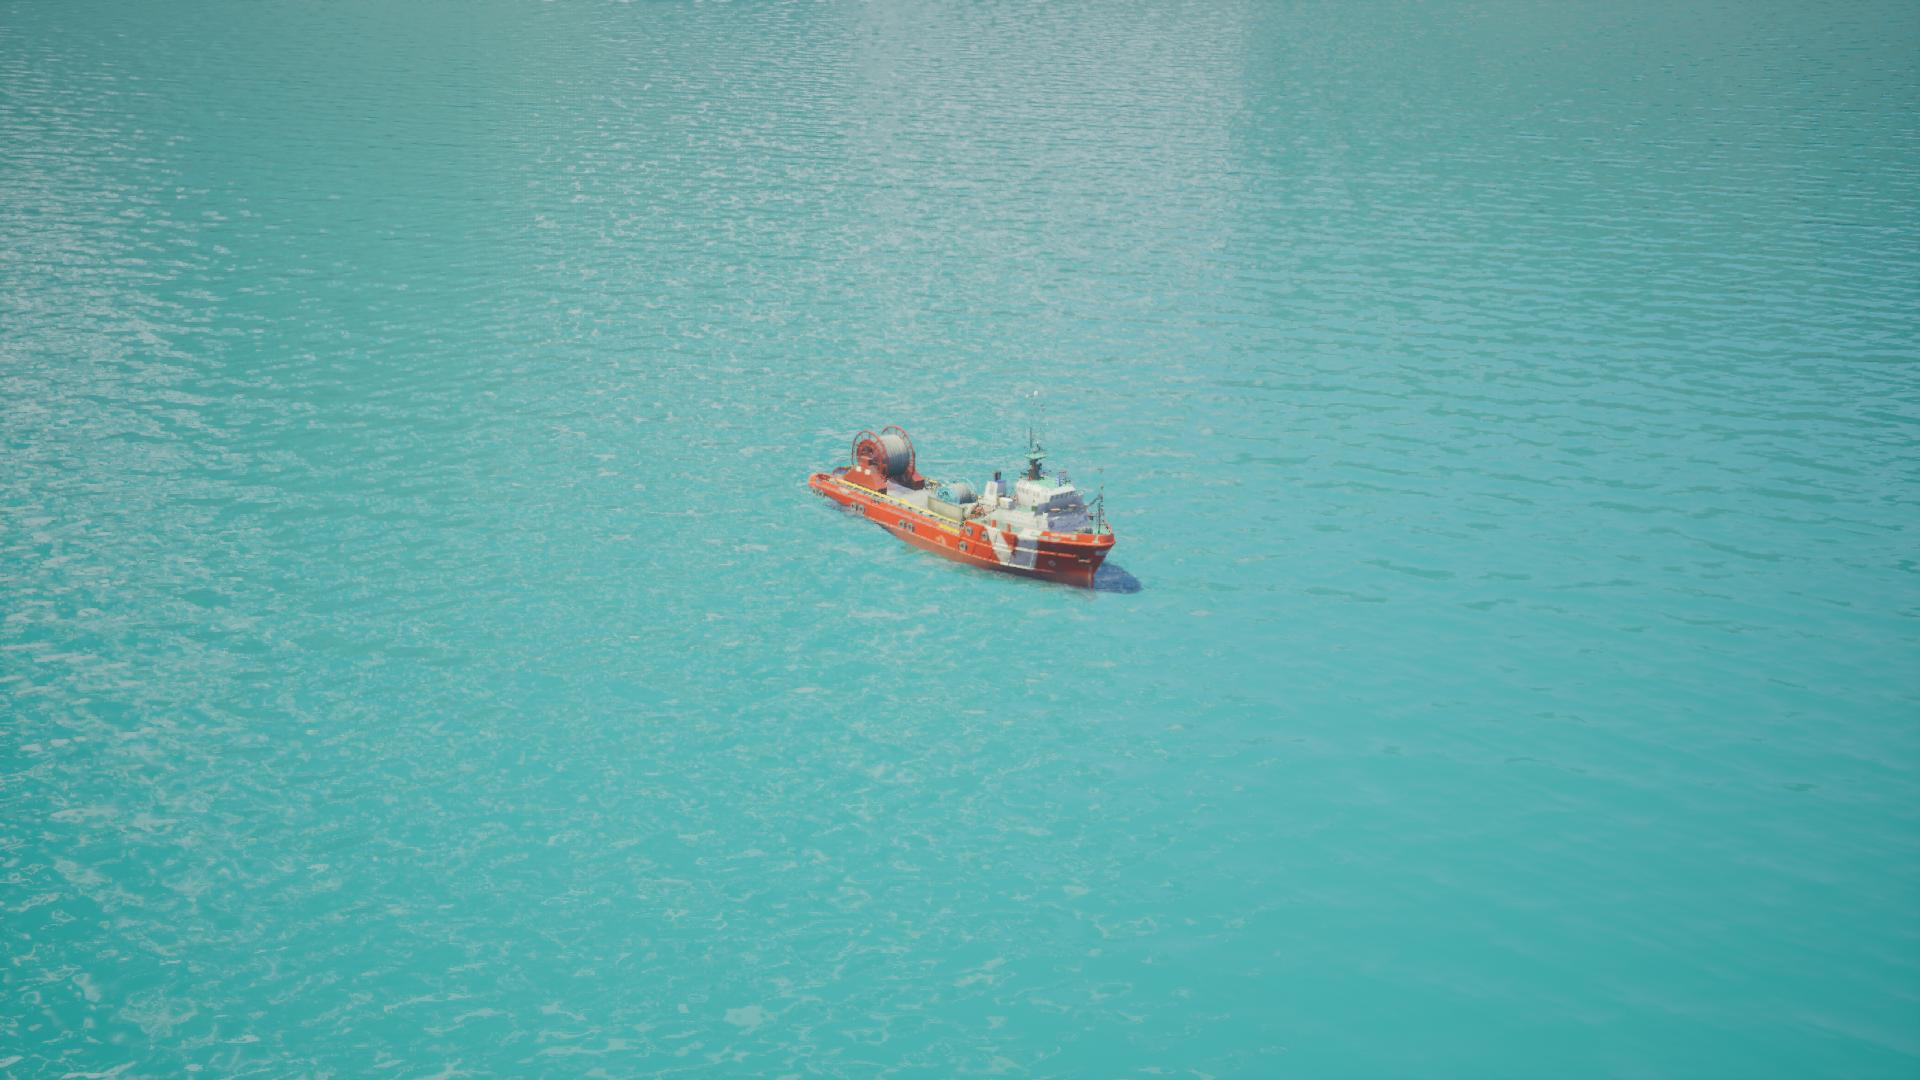Tug Boat: (803, 462, 1134, 592)
